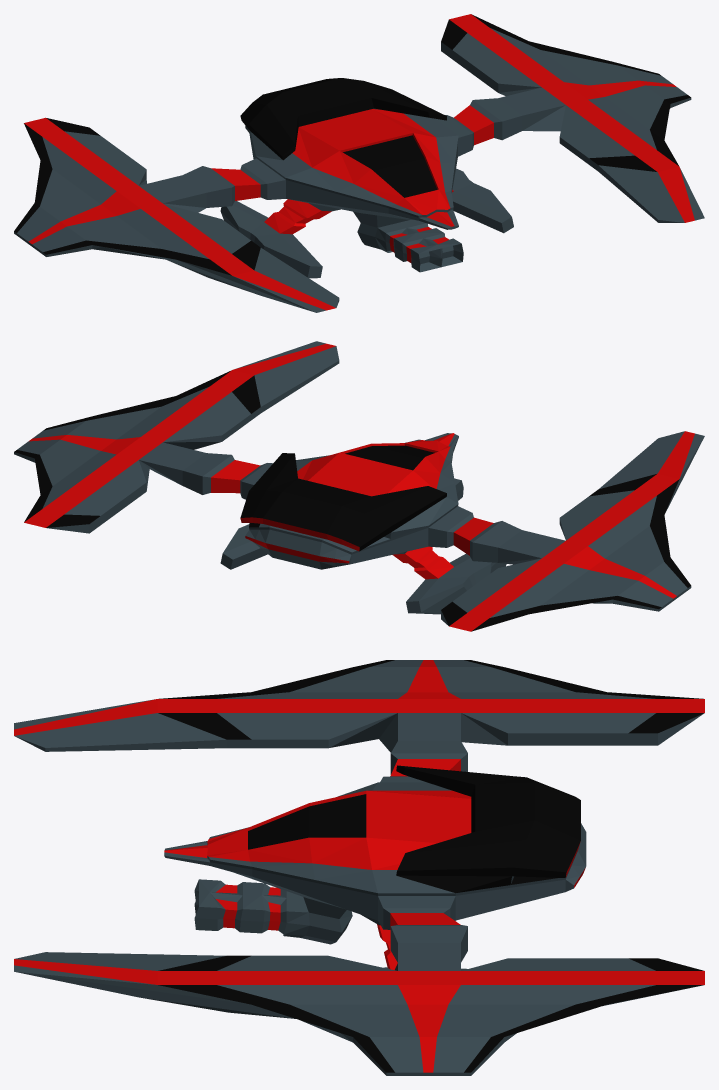
The model's file is nave_smaller_2.obj.
3 renders of one model, top to bottom at view 1: azimuth 30°, elevation 25°; view 2: azimuth 150°, elevation 25°; view 3: azimuth 270°, elevation 25°, orthographic. The views are drawn at different scales.
Parts seen in each view (by area): view 1: Cube.004; view 2: Cube.004; view 3: Cube.004.
Part boxes in pixels (x1=…): Cube.004: x1=14, y1=14, x2=704, y2=312; Cube.004: x1=14, y1=341, x2=704, y2=631; Cube.004: x1=14, y1=660, x2=704, y2=1075.
Size of the model in its own units: 0.8811 by 0.1477 by 0.6234.
1 material, 1 textured.
